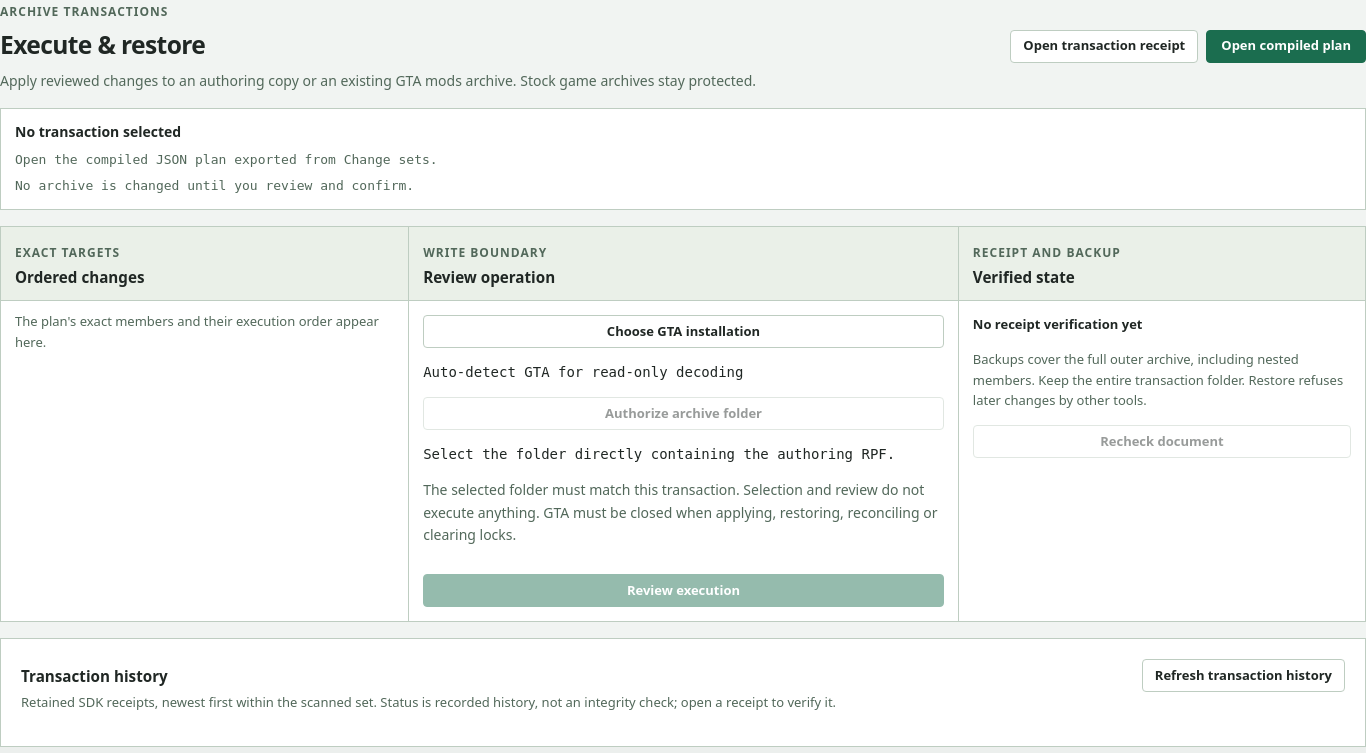
Test: rejects mismatched archive review evidence
Click the button "Open compiled plan" at (1286, 46), box [1206,30,1365,63]
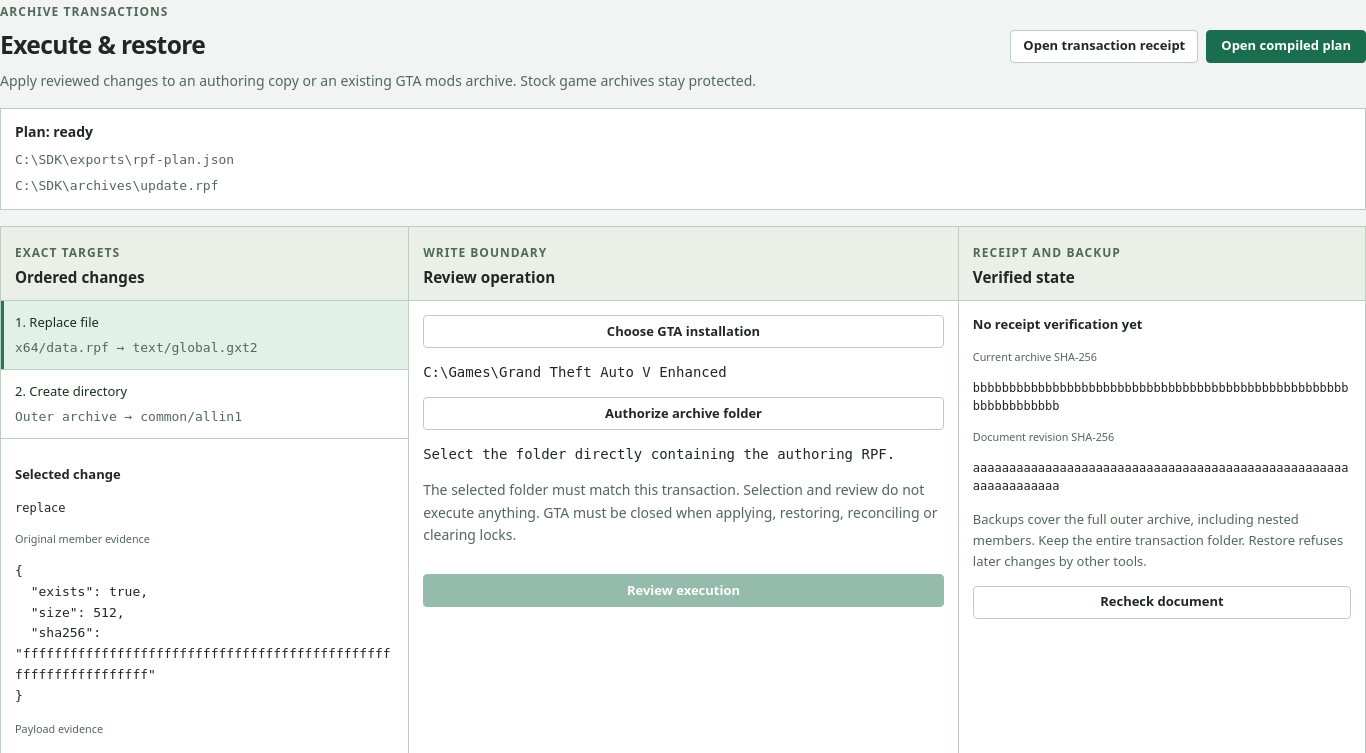
Expected: the text "Plan: ready" is shown, [15,122,93,141]
Click the button "Authorize archive folder" at (684, 414), box [423,397,944,430]
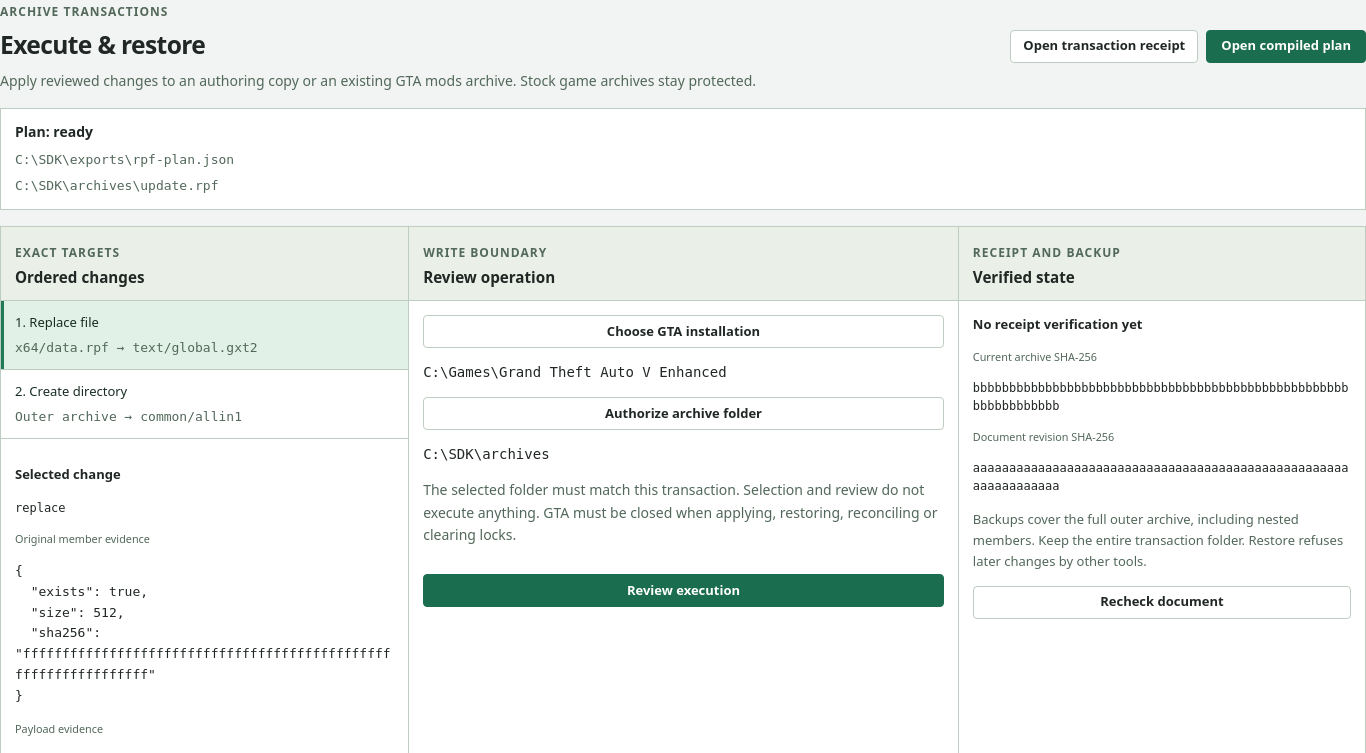
Click the button "Review execution" at (684, 591), box [423,574,944,607]
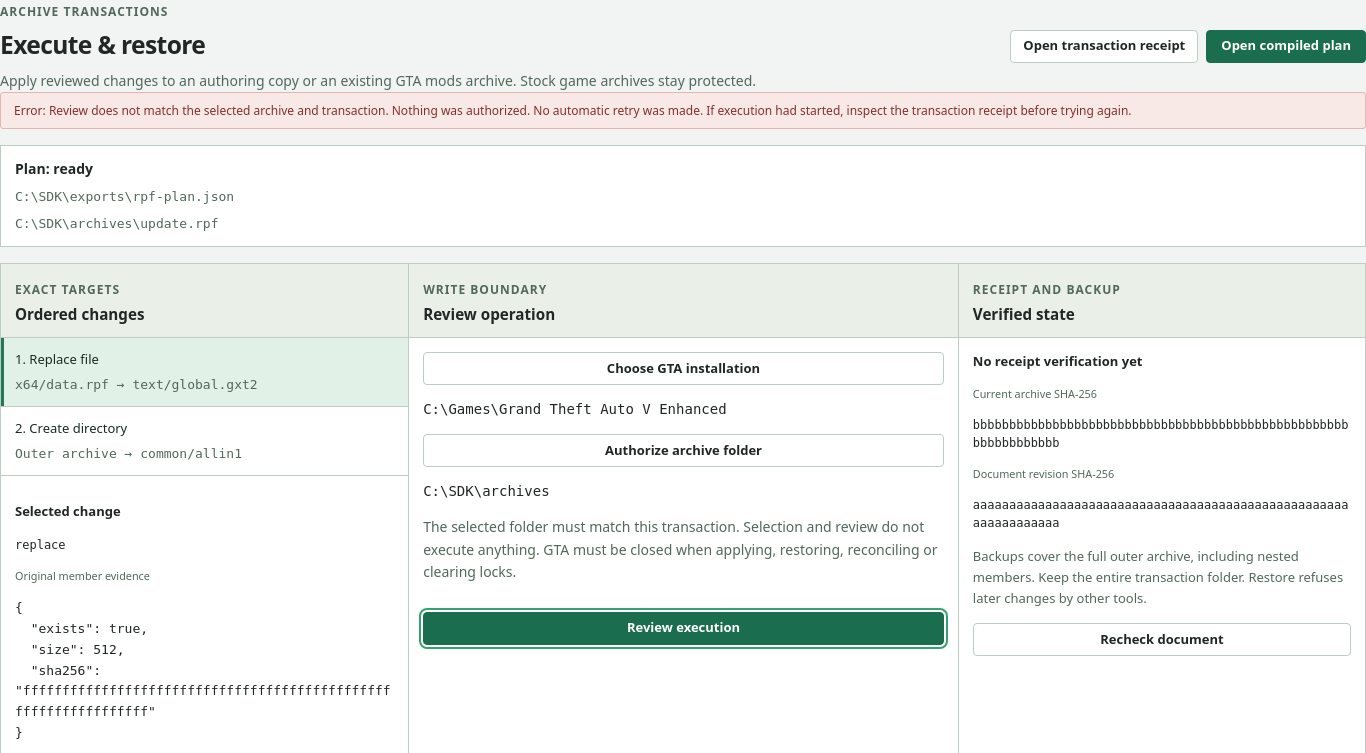
Expected: the message shows "Nothing was authorized", [14,102,530,119]
